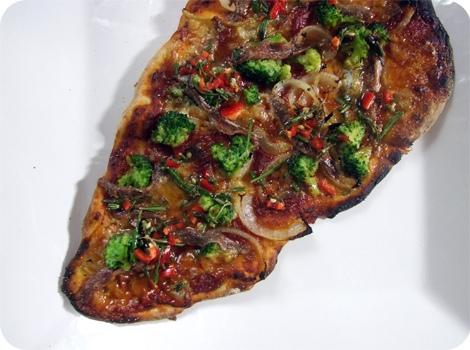bell pepper: (298, 116, 320, 138), (168, 222, 184, 246), (134, 246, 156, 263), (220, 104, 243, 118), (190, 50, 210, 66), (158, 263, 175, 281), (265, 0, 281, 19), (320, 179, 337, 196), (360, 92, 376, 110), (199, 178, 215, 193), (310, 136, 324, 153), (202, 164, 216, 180), (284, 123, 298, 138), (206, 78, 225, 89), (165, 157, 182, 168), (266, 201, 285, 210), (192, 204, 206, 214), (384, 92, 394, 104), (234, 73, 242, 88), (123, 199, 132, 212), (336, 134, 348, 143), (331, 36, 340, 47), (329, 0, 337, 6)
broccoli: (210, 118, 255, 178), (193, 193, 237, 234), (152, 110, 196, 148), (340, 23, 372, 72), (286, 155, 320, 197), (235, 58, 282, 88), (116, 153, 154, 189), (314, 1, 361, 28), (338, 120, 366, 160), (103, 232, 132, 270), (338, 146, 372, 178), (289, 48, 322, 73), (244, 85, 260, 106)
onion: (184, 84, 258, 152), (234, 196, 306, 240), (172, 226, 251, 255), (288, 72, 342, 109), (232, 40, 292, 66), (208, 227, 263, 254), (272, 78, 320, 106), (254, 125, 290, 156), (296, 24, 334, 46), (182, 8, 216, 30), (396, 6, 416, 28), (234, 154, 253, 176), (330, 176, 358, 190), (372, 59, 382, 92), (220, 0, 236, 11)
